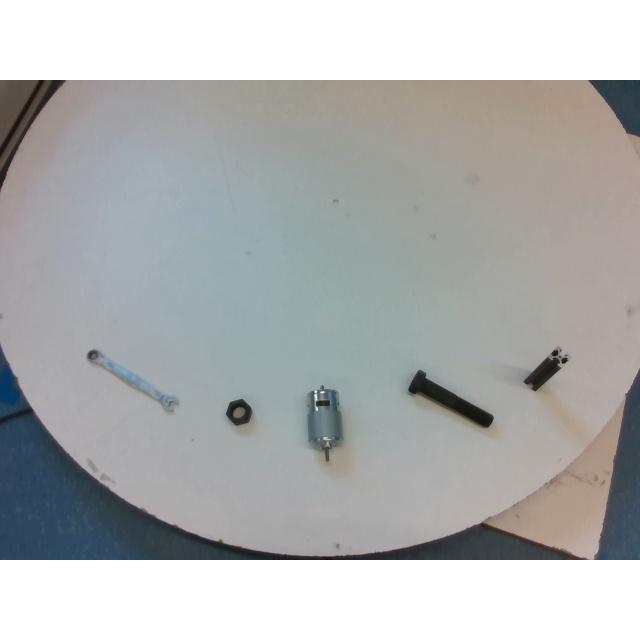F20_20_B: (524, 346, 568, 389)
M20: (226, 399, 252, 425)
M20_100: (408, 369, 492, 426)
Motor2: (306, 385, 342, 461)
Wrench: (87, 349, 179, 411)
